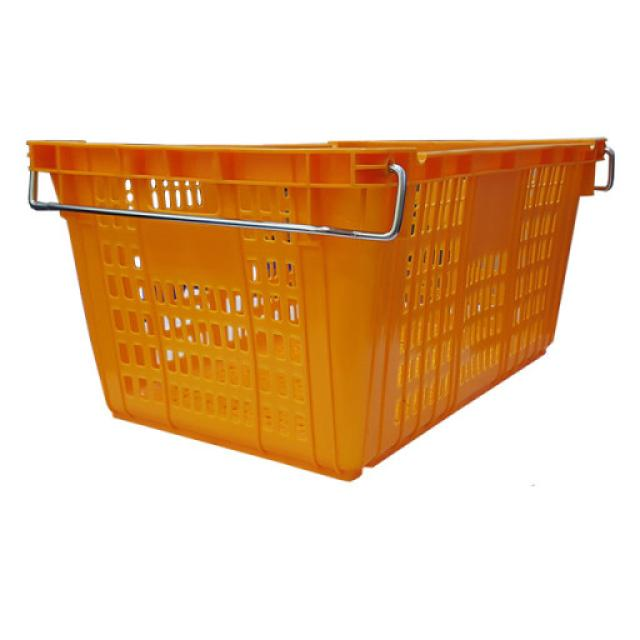basket: (29, 140, 616, 481)
